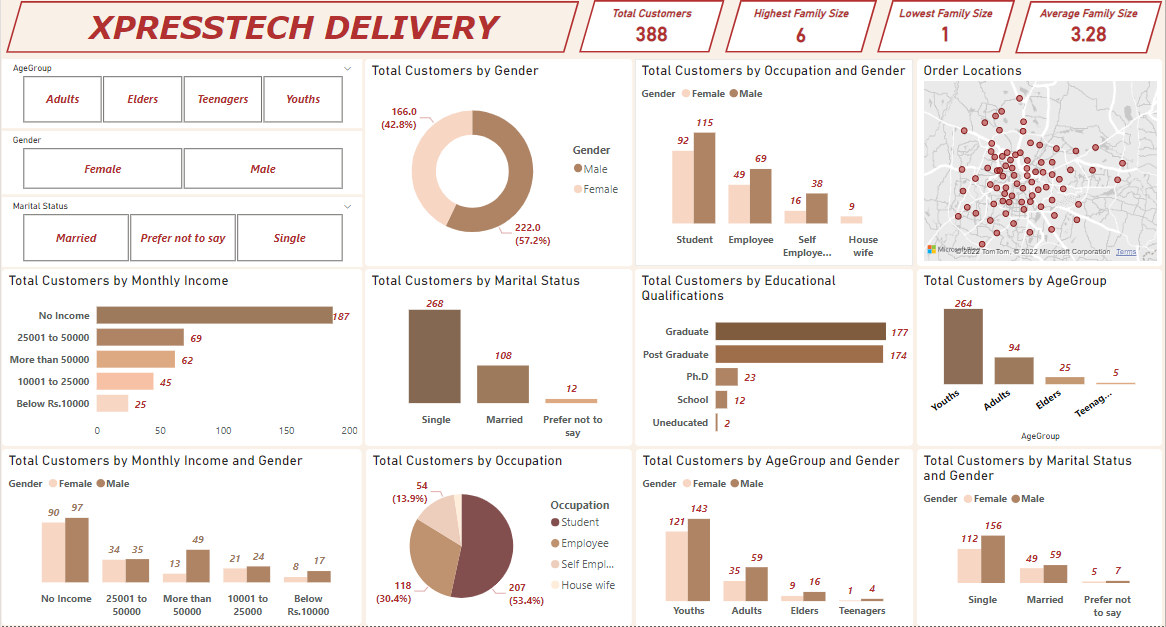

What the dashboard file says about the page in this screenshot:
{"tool":"powerbi","page":{"name":"Page 1","canvas":[1415,761],"ordinal":0},"visuals":[{"type":"shape","box":[6.1,1.2,696.6,63.2],"z":0},{"type":"shape","box":[702.6,0,177.5,64.4],"z":1000},{"type":"shape","box":[880.1,0,184.8,64.4],"z":2000},{"type":"shape","box":[1064.9,0,167.8,64.4],"z":3000},{"type":"shape","box":[1232.7,1.2,178.7,64.4],"z":4000},{"type":"columnChart","fields":{"Category":["onlinedeliverydata csv XpressTech Dataset.AgeGroup"],"Y":["Key Measures.Total Respondents"]},"box":[1113.5,327,297.8,215.2],"z":5000},{"type":"donutChart","fields":{"Y":["Key Measures.Total Respondents"],"Category":["onlinedeliverydata csv XpressTech Dataset.Gender"]},"box":[442.5,71.7,324.6,251.6],"z":6000},{"type":"columnChart","fields":{"Y":["Key Measures.Total Respondents"],"Category":["onlinedeliverydata csv XpressTech Dataset.Marital Status"]},"box":[443,327,324.6,215.2],"z":7000},{"type":"barChart","fields":{"Y":["Key Measures.Total Respondents"],"Category":["onlinedeliverydata csv XpressTech Dataset.Educational Qualifications"]},"box":[770.7,327,337.9,215.2],"z":8000},{"type":"pieChart","fields":{"Category":["onlinedeliverydata csv XpressTech Dataset.Occupation"],"Y":["Key Measures.Total Respondents"]},"box":[444,545.8,323.4,215.2],"z":9000},{"type":"barChart","fields":{"Y":["Key Measures.Total Respondents"],"Category":["onlinedeliverydata csv XpressTech Dataset.Monthly Income"]},"box":[1.2,327,437.6,215.2],"z":10000},{"type":"clusteredColumnChart","fields":{"Y":["Key Measures.Total Respondents"],"Category":["onlinedeliverydata csv XpressTech Dataset.AgeGroup"],"Series":["onlinedeliverydata csv XpressTech Dataset.Gender"]},"box":[772,545.5,337.2,215.5],"z":11000},{"type":"clusteredColumnChart","fields":{"Y":["Key Measures.Total Respondents"],"Category":["onlinedeliverydata csv XpressTech Dataset.Marital Status"],"Series":["onlinedeliverydata csv XpressTech Dataset.Gender"]},"box":[1114,545.3,297.7,214.7],"z":12000},{"type":"clusteredColumnChart","fields":{"Y":["Key Measures.Total Respondents"],"Category":["onlinedeliverydata csv XpressTech Dataset.Occupation"],"Series":["onlinedeliverydata csv XpressTech Dataset.Gender"]},"box":[770.7,71.7,337.9,251.6],"z":13000},{"type":"clusteredColumnChart","fields":{"Y":["Key Measures.Total Respondents"],"Category":["onlinedeliverydata csv XpressTech Dataset.Monthly Income"],"Series":["onlinedeliverydata csv XpressTech Dataset.Gender"]},"box":[1.2,545.5,437.1,214.3],"z":14000},{"type":"card","title":"Highest Family Size","fields":{"Values":["Key Measures.Highest Family Size"]},"box":[904.4,8.5,136.2,51.1],"z":15000},{"type":"card","title":"Lowest Family Size","fields":{"Values":["Key Measures.Lowest Family Size"]},"box":[1085.6,8.5,125.2,48.6],"z":16000},{"type":"card","title":"Average Family Size","fields":{"Values":["Key Measures.Average Family Size"]},"box":[1255.8,8.5,132.5,48.6],"z":17000},{"type":"card","title":"Total Customers","fields":{"Values":["Key Measures.Total Customer"]},"box":[723.3,8.5,134.9,49.8],"z":18000},{"type":"map","title":"Order Locations","fields":{"X":["onlinedeliverydata csv XpressTech Dataset.longitude"],"Y":["onlinedeliverydata csv XpressTech Dataset.latitude"]},"box":[1113.5,72,297.8,251.6],"z":19000},{"type":"textbox","box":[28,4.9,655.2,60.8],"z":20000},{"type":"slicer","fields":{"Values":["onlinedeliverydata csv XpressTech Dataset.AgeGroup"]},"box":[1.2,71.7,437.6,83.9],"z":21000},{"type":"slicer","fields":{"Values":["onlinedeliverydata csv XpressTech Dataset.Gender"]},"box":[1.2,159.2,437.6,76.6],"z":22000},{"type":"slicer","fields":{"Values":["onlinedeliverydata csv XpressTech Dataset.Marital Status"]},"box":[1.2,239.5,437.6,85.1],"z":23000}]}

Visuals, with their boxes in screenshot pixels (x1, y1, x2, y2), scaled from the page's 1415x761 canvas onto the 1166x627 screenshot:
shape: 5 1 579 53
shape: 579 0 725 53
shape: 725 0 878 53
shape: 878 0 1016 53
shape: 1016 1 1163 54
columnChart - onlinedeliverydata csv XpressTech Dataset.AgeGroup x Key Measures.Total Respondents: 918 269 1163 447
donutChart - Key Measures.Total Respondents x onlinedeliverydata csv XpressTech Dataset.Gender: 365 59 632 266
columnChart - Key Measures.Total Respondents x onlinedeliverydata csv XpressTech Dataset.Marital Status: 365 269 633 447
barChart - Key Measures.Total Respondents x onlinedeliverydata csv XpressTech Dataset.Educational Qualifications: 635 269 914 447
pieChart - onlinedeliverydata csv XpressTech Dataset.Occupation x Key Measures.Total Respondents: 366 450 632 626
barChart - Key Measures.Total Respondents x onlinedeliverydata csv XpressTech Dataset.Monthly Income: 1 269 362 447
clusteredColumnChart - Key Measures.Total Respondents x onlinedeliverydata csv XpressTech Dataset.AgeGroup: 636 449 914 626
clusteredColumnChart - Key Measures.Total Respondents x onlinedeliverydata csv XpressTech Dataset.Marital Status: 918 449 1163 626
clusteredColumnChart - Key Measures.Total Respondents x onlinedeliverydata csv XpressTech Dataset.Occupation: 635 59 914 266
clusteredColumnChart - Key Measures.Total Respondents x onlinedeliverydata csv XpressTech Dataset.Monthly Income: 1 449 361 626
"Highest Family Size" card: 745 7 857 49
"Lowest Family Size" card: 895 7 998 47
"Average Family Size" card: 1035 7 1144 47
"Total Customers" card: 596 7 707 48
"Order Locations" map: 918 59 1163 267
textbox: 23 4 563 54
slicer - onlinedeliverydata csv XpressTech Dataset.AgeGroup: 1 59 362 128
slicer - onlinedeliverydata csv XpressTech Dataset.Gender: 1 131 362 194
slicer - onlinedeliverydata csv XpressTech Dataset.Marital Status: 1 197 362 267
